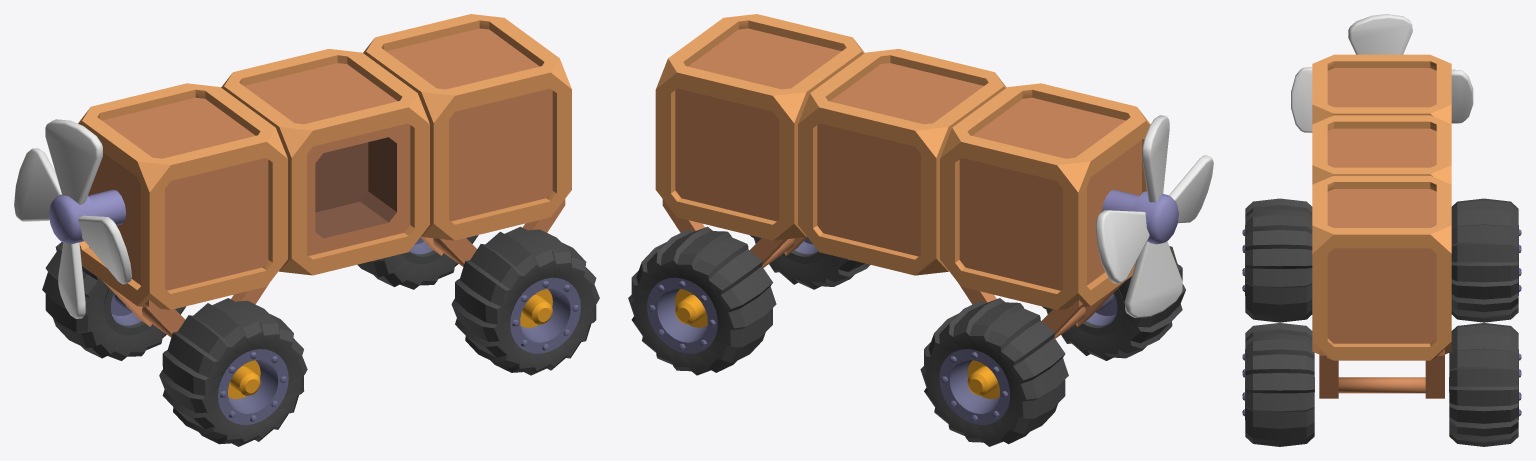
Rendered from Machine_.fbx.
The picture shows the model from 3 angles, left to right: view 1: azimuth 30°, elevation 25°; view 2: azimuth 150°, elevation 25°; view 3: azimuth 270°, elevation 25°; orthographic projection. The views are drawn at different scales.
Visible parts, largest first — view 1: Box, Box.001, DBlock_Full.001, wheel_front, wheel_back, booster, wheel_back.001, wheel_front.001, frame_wheel, frame_wheel.001; view 2: Box, Box.001, DBlock_Full.001, wheel_front.001, wheel_back.001, booster, wheel_back, wheel_front, frame_wheel, frame_wheel.001; view 3: Box.001, Box, DBlock_Full.001, wheel_front, wheel_front.001, wheel_back, wheel_back.001, booster, frame_wheel.001.
Part boxes in pixels (x1,y1,x2,y2): Box: (78,83,287,309); Box.001: (363,14,571,240); DBlock_Full.001: (221,49,429,275); wheel_front: (451,226,599,375); wheel_back: (159,298,307,446); booster: (14,119,131,318); wheel_back.001: (42,242,185,360); wheel_front.001: (357,235,478,289); frame_wheel: (102,280,268,337); frame_wheel.001: (420,199,565,266); Box: (940,83,1150,309); Box.001: (655,14,864,240); DBlock_Full.001: (798,49,1006,275); wheel_front.001: (628,226,776,375); wheel_back.001: (920,298,1068,446); booster: (1095,115,1213,317); wheel_back: (1042,246,1185,360); wheel_front: (750,235,870,289); frame_wheel: (959,281,1124,338); frame_wheel.001: (662,199,807,267); Box.001: (1312,175,1451,360); Box: (1312,54,1451,124); DBlock_Full.001: (1312,115,1451,184); wheel_front: (1242,323,1314,446); wheel_front.001: (1449,323,1521,446); wheel_back: (1242,198,1312,322); wheel_back.001: (1451,198,1521,322); booster: (1291,14,1473,132); frame_wheel.001: (1319,349,1444,398).
Size of the model in its own units: 8.55 by 5.07 by 4.99.
